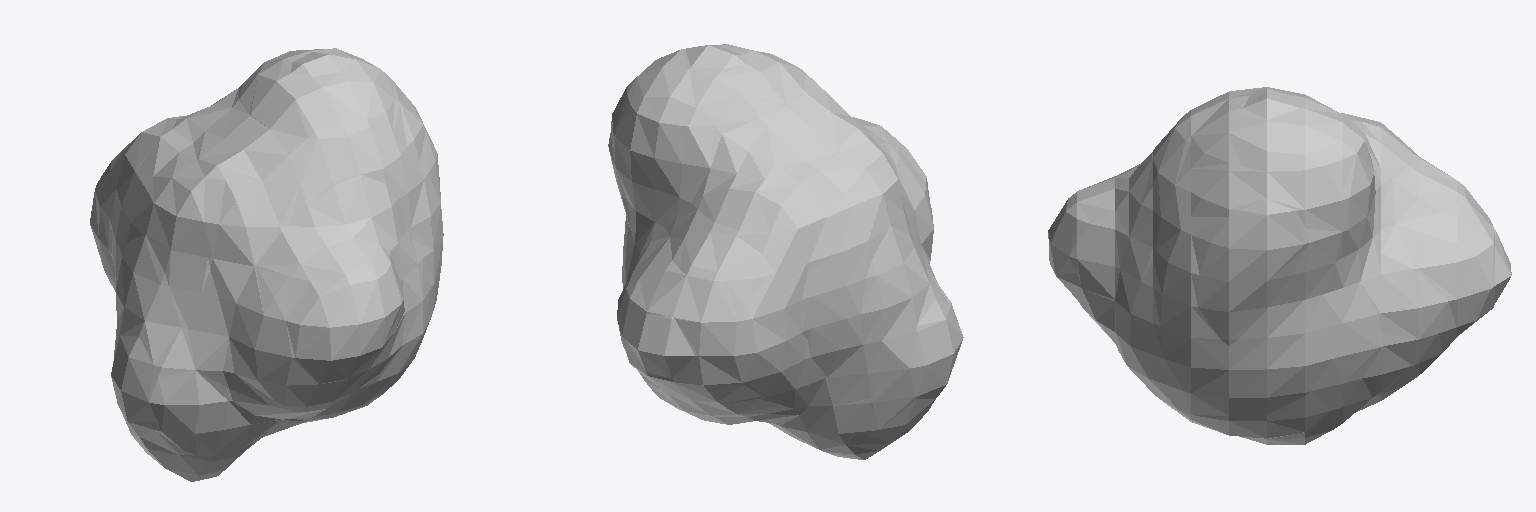
File: 1l1d_1_cms.obj
The picture shows the model from 3 angles: view 1: azimuth 30°, elevation 25°; view 2: azimuth 150°, elevation 25°; view 3: azimuth 270°, elevation 25°; orthographic projection.
Bounding box in the file's own units: 45.28 × 51.27 × 56.68.